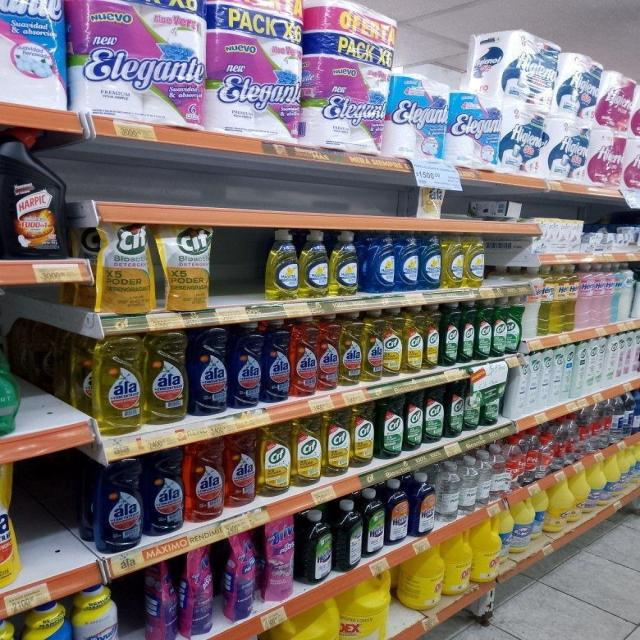ala_conc_amarillo: (92, 333, 142, 432), (145, 330, 187, 424), (340, 312, 362, 386), (362, 310, 383, 382)
ala_conc_azul: (0, 138, 69, 260), (94, 454, 142, 552), (144, 446, 184, 536), (189, 327, 229, 415), (230, 321, 262, 409), (263, 318, 290, 403)
ala_conc_rojo: (185, 437, 225, 522), (226, 428, 256, 508), (291, 316, 317, 397), (317, 313, 339, 392)
ala_sachet_amarillo: (0, 462, 18, 590)
cif_conc_bot_amarilla: (259, 422, 291, 497), (292, 413, 322, 487), (324, 406, 351, 476), (351, 401, 375, 468), (383, 308, 403, 378), (404, 305, 423, 373), (424, 304, 440, 369)
cif_conc_botella_verde: (377, 395, 403, 459), (424, 386, 444, 444), (441, 302, 459, 366), (405, 389, 423, 452), (460, 300, 475, 363), (476, 299, 491, 360), (446, 382, 462, 438), (506, 299, 520, 355), (493, 298, 506, 357)
cif_conc_sachet_amarillo: (94, 222, 154, 314), (159, 224, 212, 310)
heroe: (0, 332, 18, 438), (578, 264, 592, 330), (568, 264, 578, 333)
magistral_con_amarillo: (265, 228, 299, 300), (300, 229, 329, 299), (330, 230, 358, 297), (443, 232, 464, 289), (464, 234, 485, 288)
magistral_con_azul: (362, 230, 395, 294), (396, 230, 418, 292), (420, 231, 441, 290)
